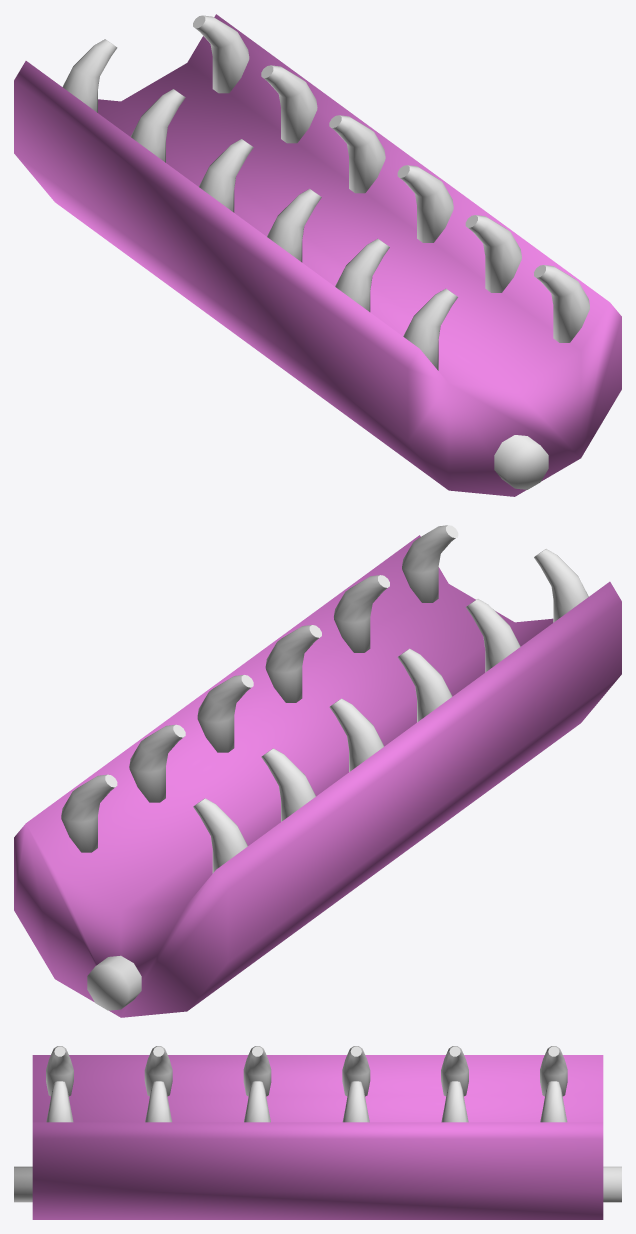
Rendered from snake ribs.fbx.
3 renders of one model, top to bottom at view 1: azimuth 30°, elevation 25°; view 2: azimuth 150°, elevation 25°; view 3: azimuth 270°, elevation 25°, orthographic. The views are drawn at different scales.
Visible parts, largest first — view 1: Cylinder; view 2: Cylinder; view 3: Cylinder.
Part boxes in pixels (box(x1,y1,x2,y2)): Cylinder: box(14, 14, 621, 496); Cylinder: box(14, 525, 621, 1017); Cylinder: box(14, 1046, 621, 1219).
Size of the model in its own units: 62.77 by 57.56 by 213.
